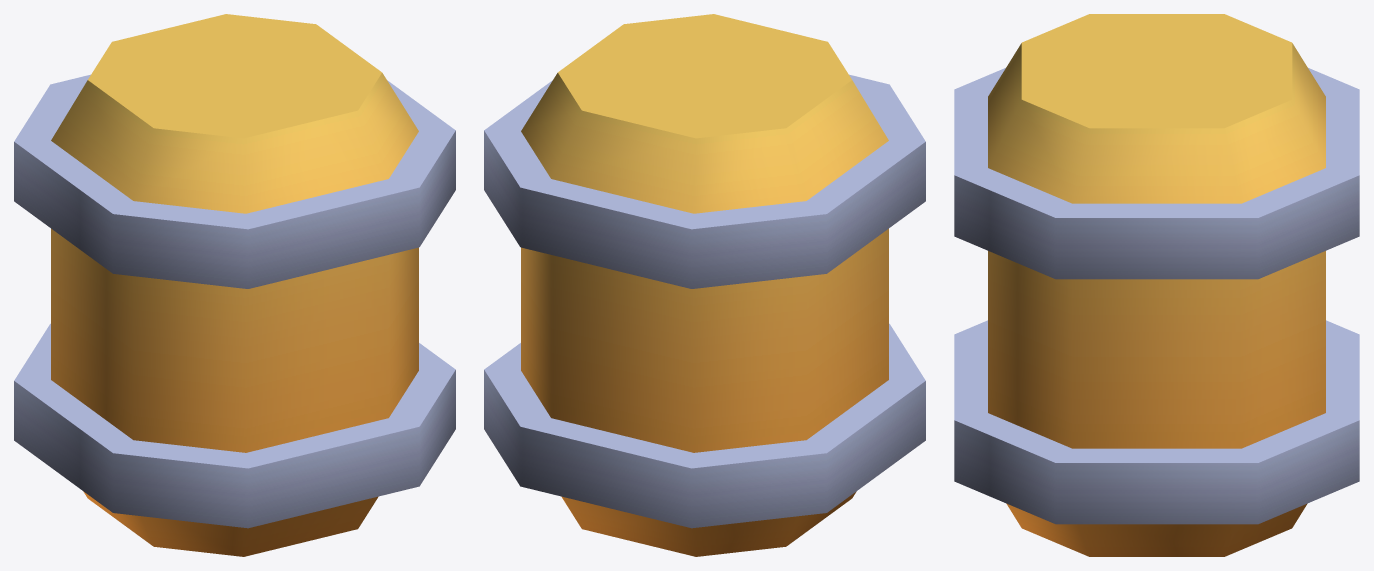
Rendered from k-space-station-container-wide.glb.
3 views of the same model, side by side, from view 1: azimuth 30°, elevation 25°; view 2: azimuth 150°, elevation 25°; view 3: azimuth 270°, elevation 25° (orthographic). The views are drawn at different scales.
Visible parts, largest first — view 1: container-wide; view 2: container-wide; view 3: container-wide.
Part boxes in pixels (bbox=[...]): container-wide: bbox=[14, 14, 455, 556]; container-wide: bbox=[484, 14, 925, 556]; container-wide: bbox=[954, 14, 1359, 556].
Size of the model in its own units: 0.6 by 0.7 by 0.6.
1 material, 1 textured.
